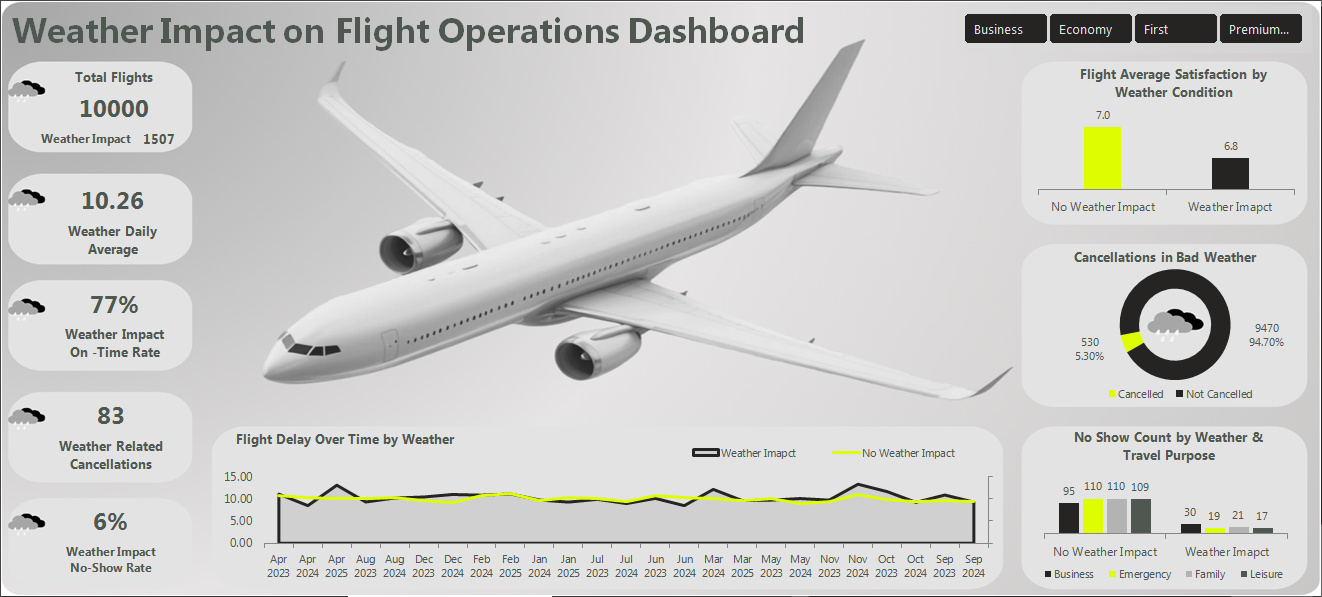

The dashboard page shown, as its layout file describes it:
{"tool":"powerbi","page":{"name":"Weather Impact on Flights Operations","canvas":[3300,1800],"ordinal":0},"visuals":[{"type":"areaChart","title":"Flight Delay Over Time by Weather","fields":{"Category":["Weather Impact on Flights Operations.Departure_Time.Variation.Date Hierarchy.Year","Weather Impact on Flights Operations.Departure_Time.Variation.Date Hierarchy.Month"],"Y":["Weather Impact on Flights Operations.Average Delay Flights"],"Series":["Weather Impact on Flights Operations.Weather_Impact_Label"]},"box":[572.6,1292.4,1920.7,453.3],"z":0},{"type":"cardVisual","fields":{"Data":["Weather Impact on Flights Operations.Total Flights"]},"box":[27.8,151.1,461.8,273.5],"z":1000,"group":"g1"},{"type":"clusteredColumnChart","title":"Flight Average Satisfaction by Weather Condition","fields":{"Category":["Weather Impact on Flights Operations.Weather_Impact_Label"],"Y":["Weather Impact on Flights Operations.Average Flight Satisfaction Score"],"Series":["Weather Impact on Flights Operations.Weather_Impact_Label"]},"box":[2550,180.2,717.7,492.7],"z":1000},{"type":"donutChart","title":"Cancellation in Bad Weather","fields":{"Category":["Weather Impact on Flights Operations.Cancellation_Label"],"Y":["CountNonNull(Weather Impact on Flights Operations.Flight_ID)"]},"box":[2557.3,731.2,741.7,495.8],"z":2000},{"type":"cardVisual","fields":{"Data":["Weather Impact on Flights Operations.Avg Delay (Weather Impact)"]},"box":[15.4,520.6,461.8,275],"z":3000,"group":"g2"},{"type":"cardVisual","fields":{"Data":["Weather Impact on Flights Operations.On-Time % (Weather Impact)"]},"box":[15.4,842.6,461.8,275.7],"z":3000},{"type":"clusteredColumnChart","title":"No Show Count by Weather & Travel Purpose","fields":{"Category":["Weather Impact on Flights Operations.Weather_Impact_Label"],"Y":["Sum(Weather Impact on Flights Operations.No_Show)"],"Series":["Weather Impact on Flights Operations.Travel_Purpose"]},"box":[2557.3,1292.7,692.7,489.6],"z":4000},{"type":"cardVisual","fields":{"Data":["Weather Impact on Flights Operations.Total Cancelltion (Weather Imapct)"]},"box":[15.4,1183.8,461.8,274.3],"z":5000},{"type":"advancedSlicerVisual","fields":{"Values":["Weather Impact on Flights Operations.Seat_Class"]},"box":[1932.6,0,1340.1,139.2],"z":6000},{"type":"cardVisual","fields":{"Data":["Weather Impact on Flights Operations.No-Show Rate % (Weather Imapct)"]},"box":[15.4,1504.4,461.8,277.2],"z":7000},{"type":"textbox","box":[23.9,0,1908.7,139.2],"z":8000},{"type":"group","id":"g1","title":"Group 2","box":[27.8,151.1,461.3,274.4],"z":9000},{"type":"group","id":"g2","title":"Group 3","box":[15.4,520.6,461.8,275],"z":10000},{"type":"cardVisual","fields":{"Data":["Weather Impact on Flights Operations.Total Flights (Weather Imapct)"]},"box":[272.8,348.9,175,71.3],"z":11000,"group":"g3"},{"type":"textbox","box":[72,348.7,266.4,75.6],"z":12000,"group":"g3"},{"type":"textbox","box":[338,568.7,139.2,71.6],"z":13000,"group":"g2"},{"type":"group","id":"g3","title":"Group 1","box":[72,348.7,377.8,75.6],"z":13001,"group":"g1"}]}

Visuals, with their boxes on the page's 3300x1800 design canvas (x1, y1, x2, y2). These are canvas units, not pixel positions in the 1322x597 screenshot, which may show the page scaled, cropped or inside an application window:
"Flight Delay Over Time by Weather" areaChart: <region>573, 1292, 2493, 1746</region>
cardVisual - Weather Impact on Flights Operations.Total Flights: <region>28, 151, 490, 425</region>
"Flight Average Satisfaction by Weather Condition" clusteredColumnChart: <region>2550, 180, 3268, 673</region>
"Cancellation in Bad Weather" donutChart: <region>2557, 731, 3299, 1227</region>
cardVisual - Weather Impact on Flights Operations.Avg Delay (Weather Impact): <region>15, 521, 477, 796</region>
cardVisual - Weather Impact on Flights Operations.On-Time % (Weather Impact): <region>15, 843, 477, 1118</region>
"No Show Count by Weather & Travel Purpose" clusteredColumnChart: <region>2557, 1293, 3250, 1782</region>
cardVisual - Weather Impact on Flights Operations.Total Cancelltion (Weather Imapct): <region>15, 1184, 477, 1458</region>
advancedSlicerVisual - Weather Impact on Flights Operations.Seat_Class: <region>1933, 0, 3273, 139</region>
cardVisual - Weather Impact on Flights Operations.No-Show Rate % (Weather Imapct): <region>15, 1504, 477, 1782</region>
textbox: <region>24, 0, 1933, 139</region>
"Group 2" group: <region>28, 151, 489, 426</region>
"Group 3" group: <region>15, 521, 477, 796</region>
cardVisual - Weather Impact on Flights Operations.Total Flights (Weather Imapct): <region>273, 349, 448, 420</region>
textbox: <region>72, 349, 338, 424</region>
textbox: <region>338, 569, 477, 640</region>
"Group 1" group: <region>72, 349, 450, 424</region>
